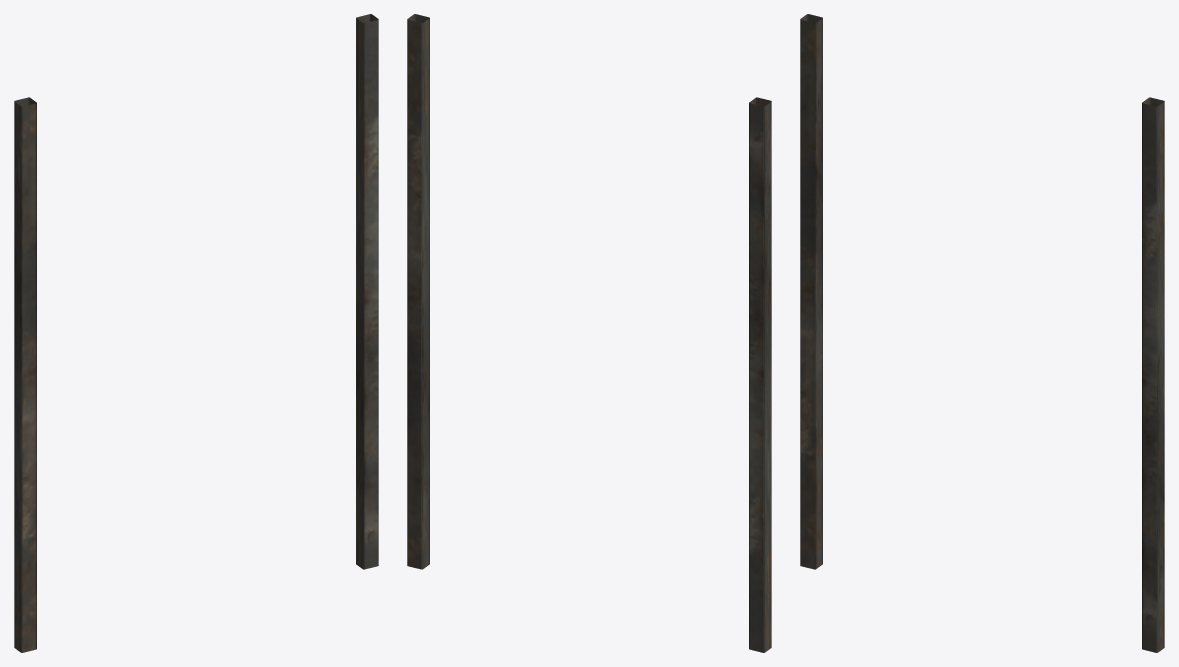
Rendered from wall_007.glb.
3 renders of one model, left to right at view 1: azimuth 30°, elevation 25°; view 2: azimuth 150°, elevation 25°; view 3: azimuth 330°, elevation 25°, orthographic.
Parts seen in each view (by area): view 1: Building_12_068; view 2: Building_12_068; view 3: Building_12_068.
Boxes of the visible parts, <box> form: Building_12_068: <box>14,14,378,652</box>; Building_12_068: <box>407,14,771,652</box>; Building_12_068: <box>800,14,1164,652</box>.
Size of the model in its own units: 1.37 by 2 by 0.0525.
1 material, 1 textured.
